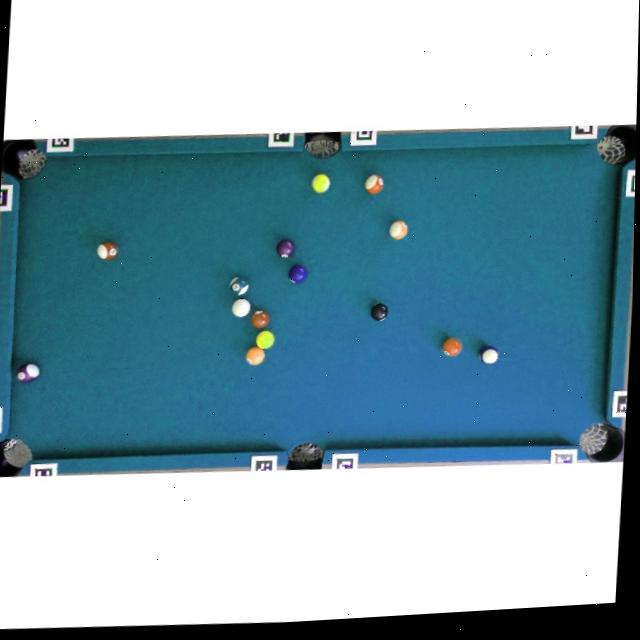cue ball: (231, 297, 251, 317)
other: (15, 362, 39, 383), (440, 336, 462, 357), (478, 344, 499, 364), (310, 172, 330, 193), (97, 240, 118, 260), (254, 329, 275, 349), (229, 275, 249, 296), (245, 345, 265, 366), (388, 220, 408, 240), (364, 173, 383, 194), (288, 263, 307, 284), (250, 309, 269, 329), (369, 302, 388, 322), (276, 238, 294, 258)
